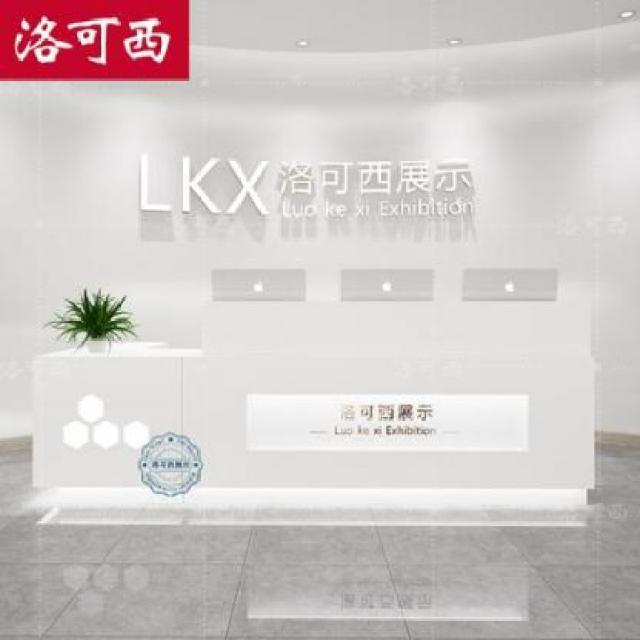frontdesk: (23, 331, 611, 537)
